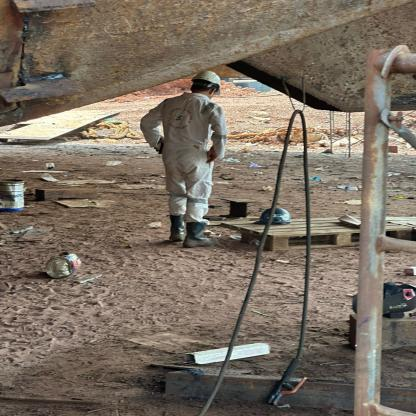bota: (184, 221, 219, 248), (167, 215, 189, 242)
